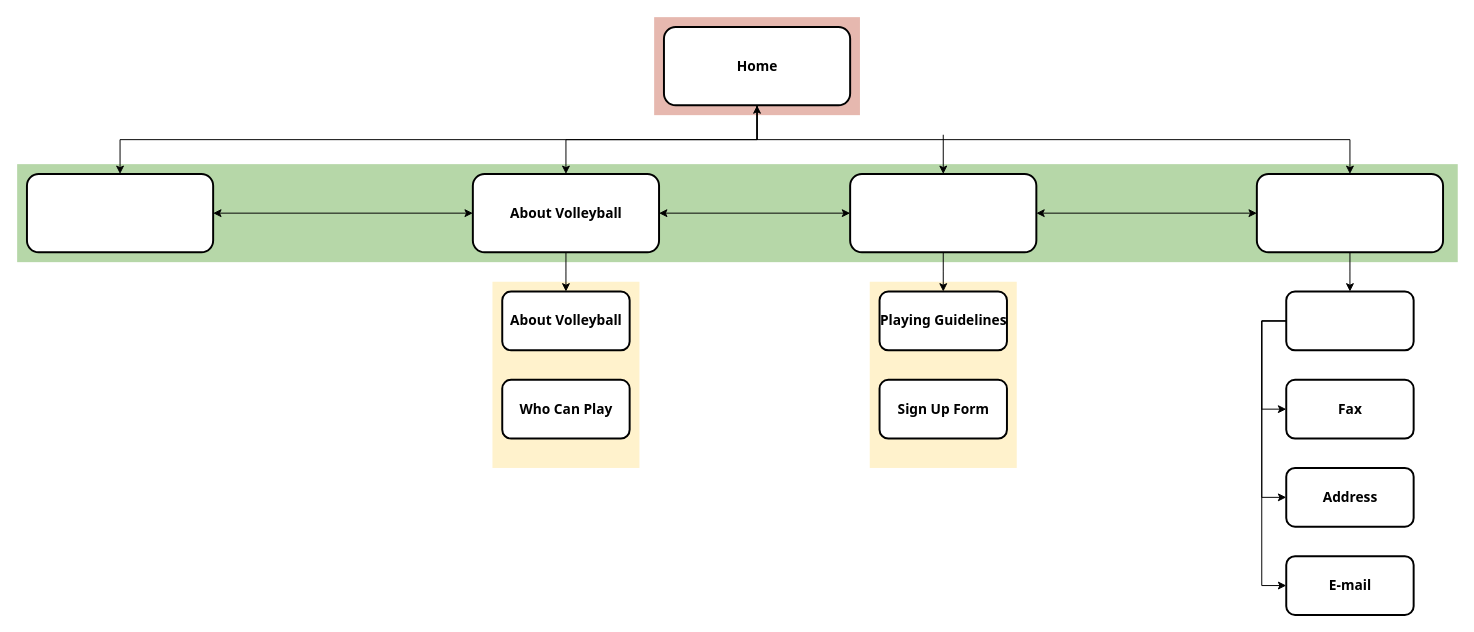
Some shapes in this 1474 by 632 pixel diagram are drawn without their labels. The box of each missing label's shape, as (x1, y1, x2, y2) in pixels:
Announcements: (25, 172, 214, 253)
Contacts: (1255, 172, 1444, 253)
Phone: (1285, 290, 1414, 351)
Sign Up: (849, 172, 1037, 253)
